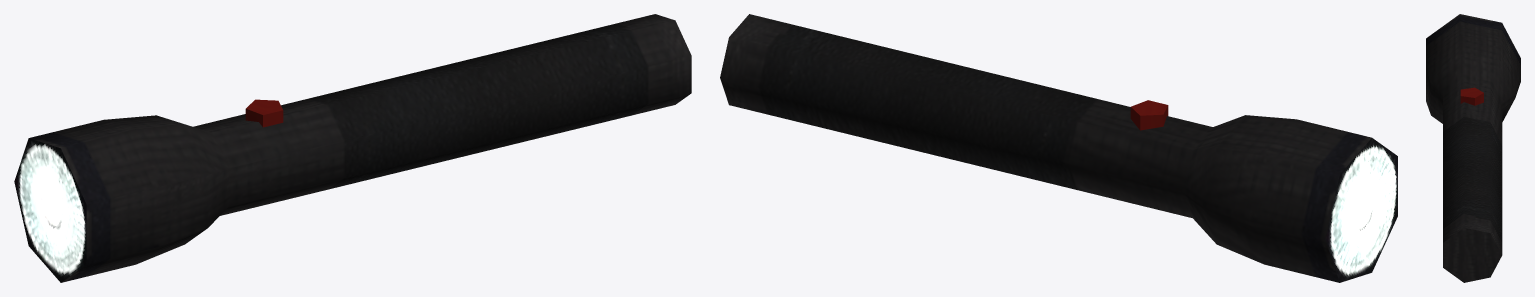
File: FlashLight.glb
The picture shows the model from 3 angles, left to right: view 1: azimuth 30°, elevation 25°; view 2: azimuth 150°, elevation 25°; view 3: azimuth 270°, elevation 25°; orthographic projection. The views are drawn at different scales.
Visible parts, largest first — view 1: Lantern.001; view 2: Lantern.001; view 3: Lantern.001.
Part boxes in pixels (x1,y1,x2,y2): Lantern.001: [14, 14, 691, 282]; Lantern.001: [720, 14, 1397, 282]; Lantern.001: [1426, 14, 1520, 282].
Bounding box in the file's own units: 0.4901 × 0.102 × 0.0995.
1 material, 1 textured.
